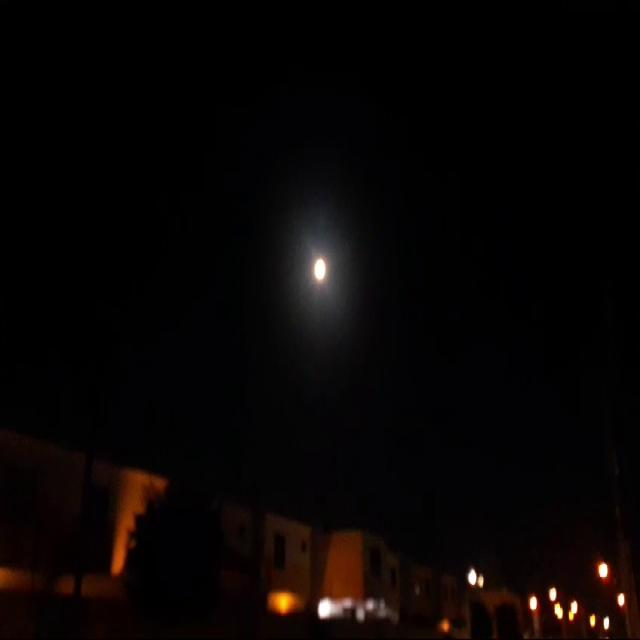moon: (310, 254, 327, 288)
